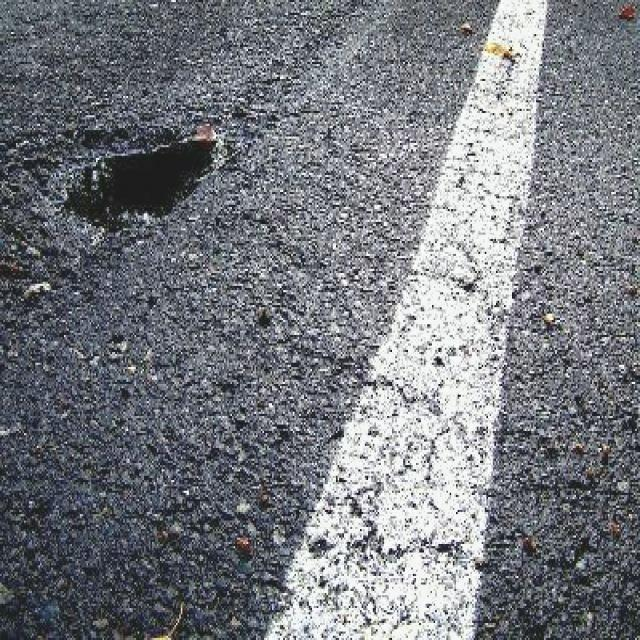Pothole: (37, 113, 230, 267)
